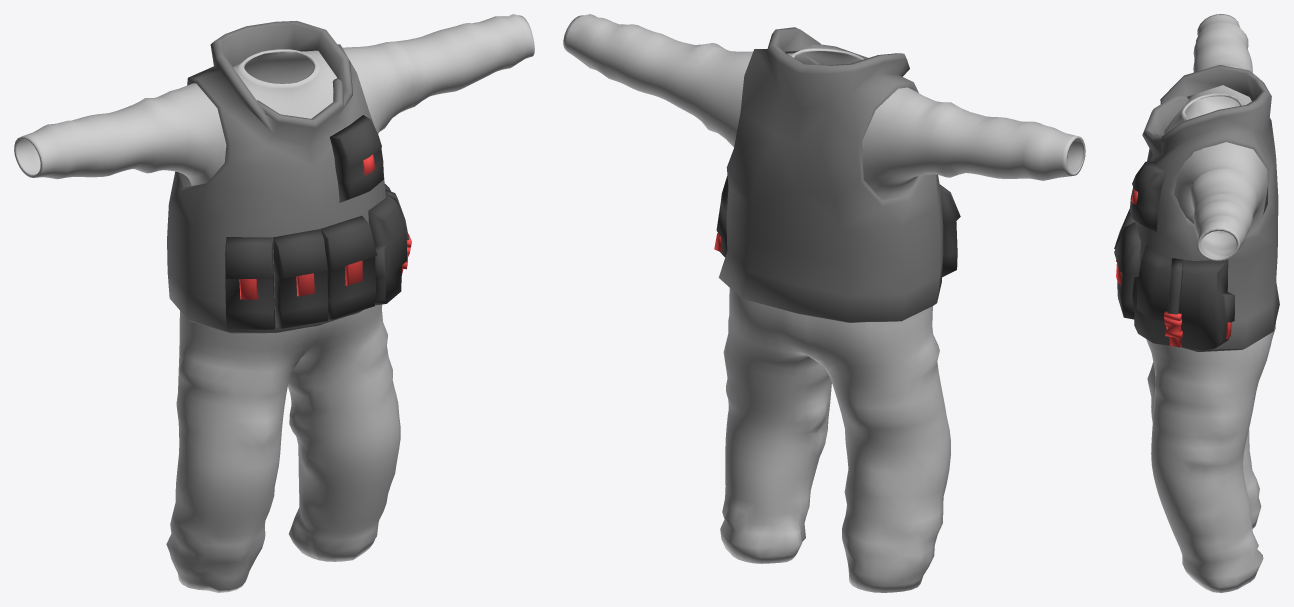
The model's file is overalls.003.fbx.
3 renders of one model, left to right at view 1: azimuth 30°, elevation 25°; view 2: azimuth 150°, elevation 25°; view 3: azimuth 270°, elevation 25°, orthographic. The views are drawn at different scales.
Visible parts, largest first — view 1: overalls.003; view 2: overalls.003; view 3: overalls.003.
Part boxes in pixels (x1=…): overalls.003: x1=14, y1=14, x2=534, y2=592; overalls.003: x1=563, y1=14, x2=1085, y2=592; overalls.003: x1=1114, y1=14, x2=1279, y2=592.
Size of the model in its own units: 209 by 208 by 67.46.
